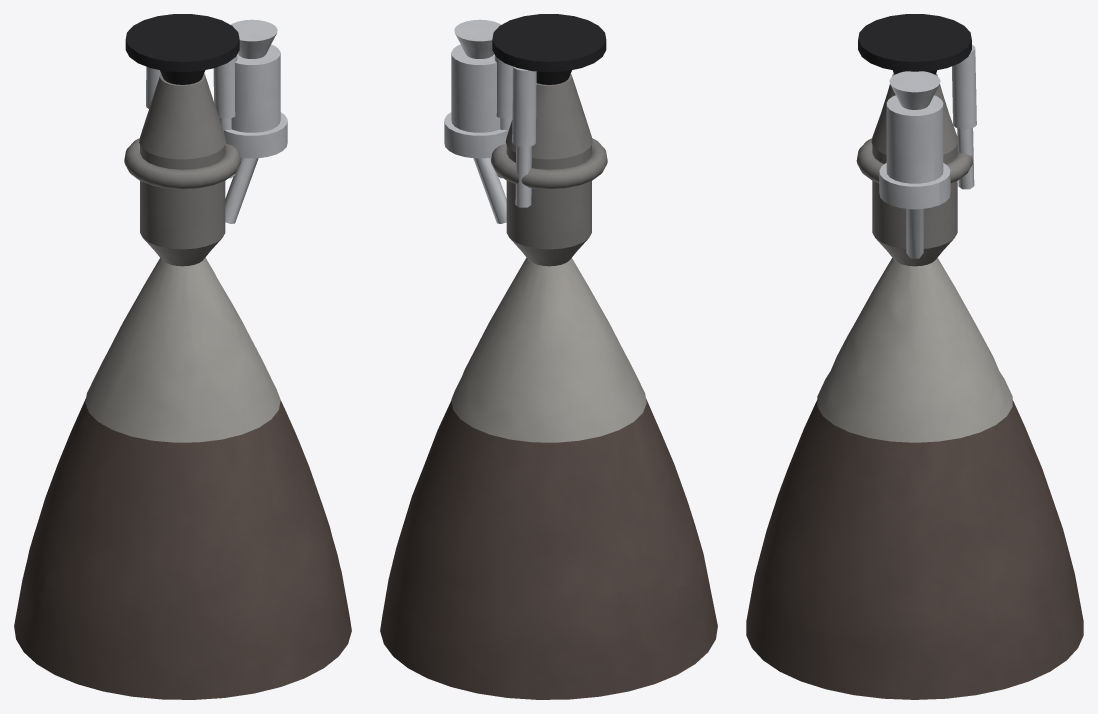
The model's file is prop13_rl10.glb.
The picture shows the model from 3 angles, left to right: view 1: azimuth 30°, elevation 25°; view 2: azimuth 150°, elevation 25°; view 3: azimuth 270°, elevation 25°; orthographic projection.
Parts seen in each view (by area): view 1: nozzle_extension, nozzle, chamber, turbopump, gimbal_mount, injector_dome, coolant_manifold, gimbal_actuators, feedline; view 2: nozzle_extension, nozzle, turbopump, chamber, gimbal_mount, injector_dome, gimbal_actuators, coolant_manifold, feedline; view 3: nozzle_extension, nozzle, turbopump, gimbal_mount, chamber, gimbal_actuators, injector_dome, coolant_manifold, feedline.
Boxes of the visible parts, <box> form: nozzle_extension: <box>14,398,351,699</box>; nozzle: <box>85,257,280,442</box>; chamber: <box>140,144,225,266</box>; turbopump: <box>224,19,287,158</box>; gimbal_mount: <box>125,14,239,84</box>; injector_dome: <box>139,73,226,159</box>; coolant_manifold: <box>124,138,240,189</box>; gimbal_actuators: <box>146,55,237,178</box>; feedline: <box>225,157,258,223</box>; nozzle_extension: <box>380,398,717,699</box>; nozzle: <box>451,257,646,442</box>; turbopump: <box>444,19,507,158</box>; chamber: <box>506,144,591,266</box>; gimbal_mount: <box>492,14,606,84</box>; injector_dome: <box>505,74,592,159</box>; gimbal_actuators: <box>494,55,536,207</box>; coolant_manifold: <box>491,138,607,189</box>; feedline: <box>473,157,506,223</box>; nozzle_extension: <box>746,400,1083,699</box>; nozzle: <box>817,258,1012,442</box>; turbopump: <box>879,71,950,209</box>; gimbal_mount: <box>858,14,971,74</box>; chamber: <box>872,144,957,266</box>; gimbal_actuators: <box>903,45,976,189</box>; injector_dome: <box>871,73,958,154</box>; coolant_manifold: <box>856,138,973,182</box>; feedline: <box>906,209,923,258</box>.
Bounding box in the file's own units: 1.19 × 2.29 × 1.19.
Materials: 5 (4 with a texture image).
